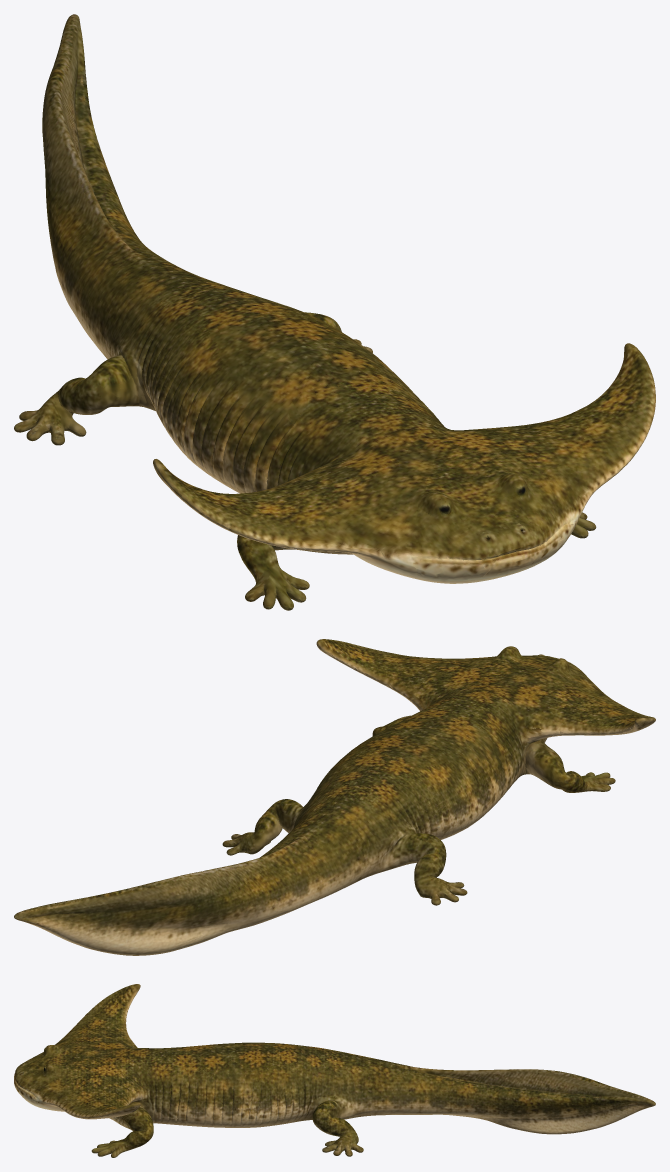
The picture shows the model from 3 angles, top to bottom: view 1: azimuth 30°, elevation 25°; view 2: azimuth 150°, elevation 25°; view 3: azimuth 270°, elevation 25°; orthographic projection. The views are drawn at different scales.
Parts seen in each view (by area): view 1: Authored orientation; view 2: Authored orientation; view 3: Authored orientation.
Part boxes in pixels (x1,y1,x2,y2): Authored orientation: (14,14,655,610); Authored orientation: (14,639,655,955); Authored orientation: (14,984,655,1157).
Bounding box in the file's own units: 0.3348 × 0.094 × 0.7502.
Materials: 1 (1 with a texture image).
